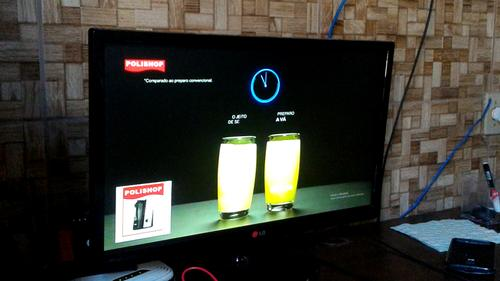Polishop #1: (113, 180, 172, 242)
